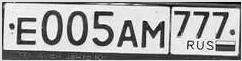license-plateSW: (1, 3, 240, 59)
